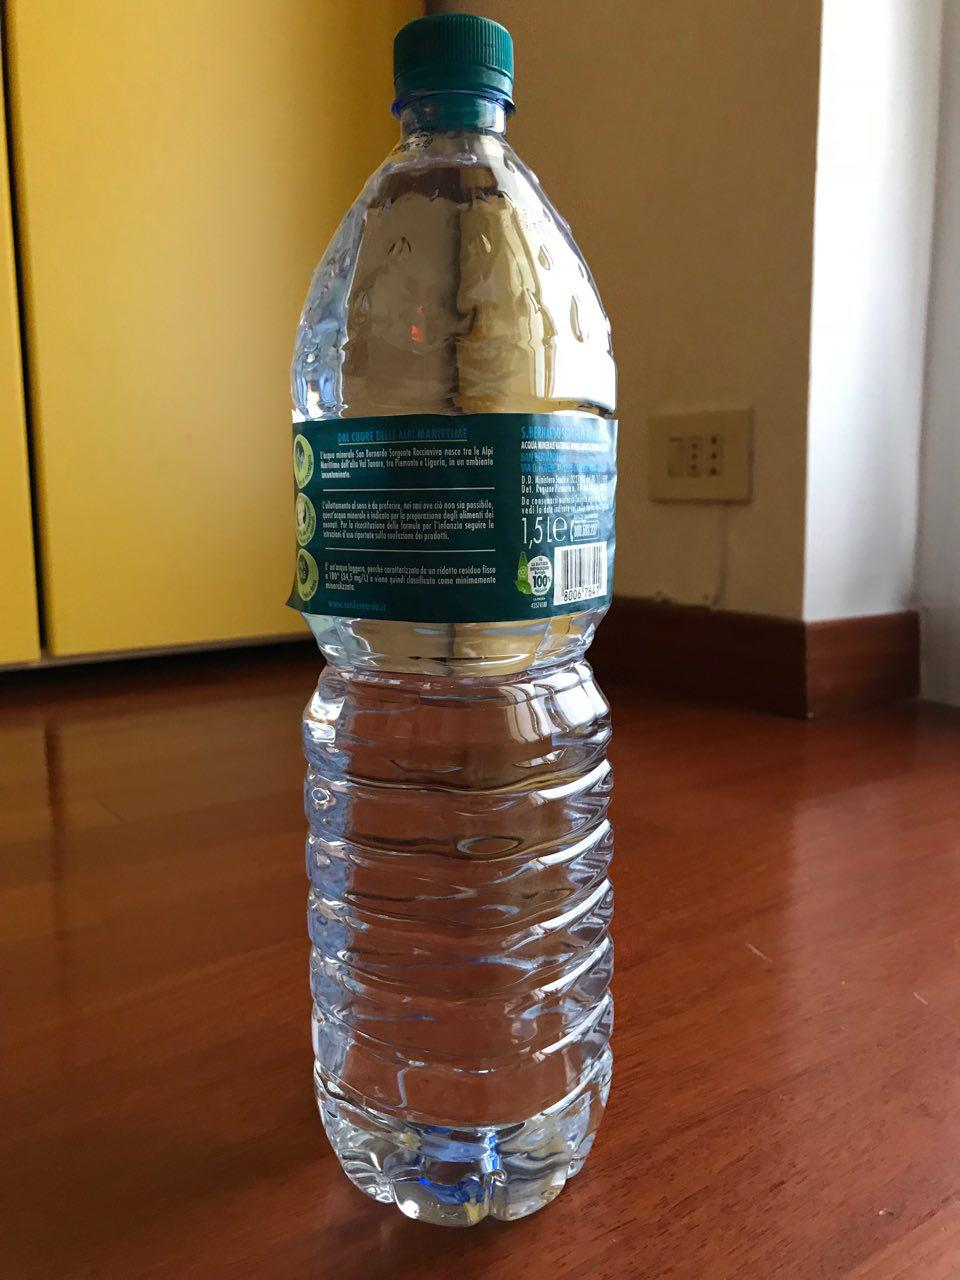san_bernardo: (285, 11, 623, 1231)
